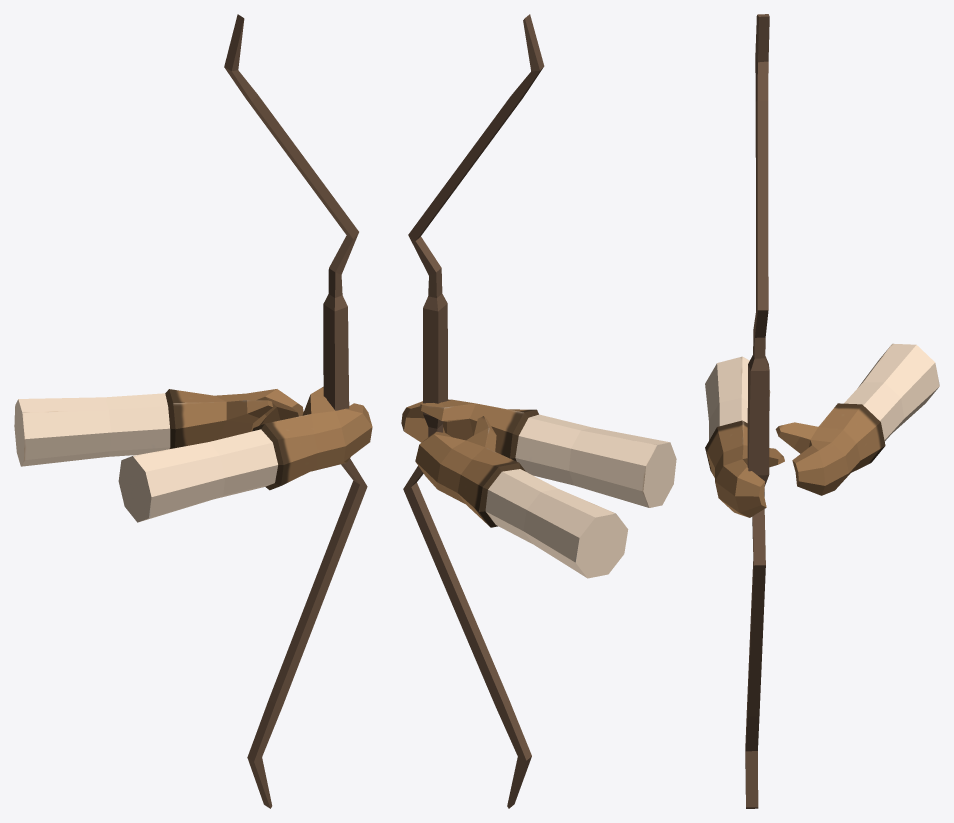
The model's file is bow.fbx.
The picture shows the model from 3 angles, left to right: view 1: azimuth 30°, elevation 25°; view 2: azimuth 150°, elevation 25°; view 3: azimuth 270°, elevation 25°; orthographic projection.
Visible parts, largest first — view 1: Cube, Cube.001, Cylinder; view 2: Cube.001, Cube, Cylinder; view 3: Cylinder, Cube.001, Cube.
Part boxes in pixels (x1=…): Cube: x1=118, y1=386, x2=372, y2=522; Cube.001: x1=14, y1=389, x2=303, y2=466; Cylinder: x1=224, y1=14, x2=367, y2=808; Cube.001: x1=415, y1=416, x2=628, y2=578; Cube: x1=401, y1=399, x2=676, y2=507; Cylinder: x1=403, y1=14, x2=544, y2=808; Cylinder: x1=745, y1=14, x2=769, y2=808; Cube.001: x1=775, y1=343, x2=939, y2=495; Cube: x1=705, y1=356, x2=784, y2=517.
Bounding box in the file's own units: 564 × 1505 × 408.
